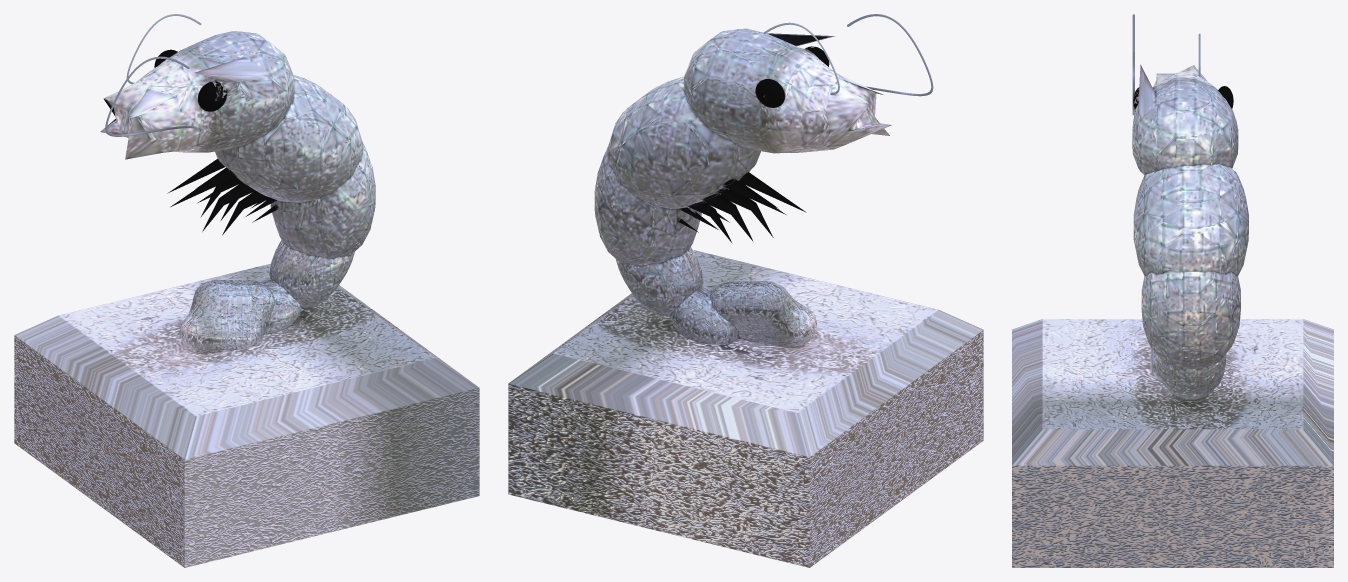
File: silveren_shrimpo.glb
The picture shows the model from 3 angles, left to right: view 1: azimuth 30°, elevation 25°; view 2: azimuth 150°, elevation 25°; view 3: azimuth 270°, elevation 25°; orthographic projection. The views are drawn at different scales.
Parts seen in each view (by area): view 1: Cube, NurbsPath.001; view 2: Cube, NurbsPath.001; view 3: Cube, NurbsPath.001.
Boxes of the visible parts, x1,y1,x2,y2 form: Cube: (14,263,479,567); NurbsPath.001: (100,14,375,353); Cube: (508,250,983,567); NurbsPath.001: (594,14,933,347); Cube: (1012,319,1333,567); NurbsPath.001: (1132,14,1248,399).
Size of the model in its own units: 2.1 by 2.98 by 2.
2 materials, 2 textured.
